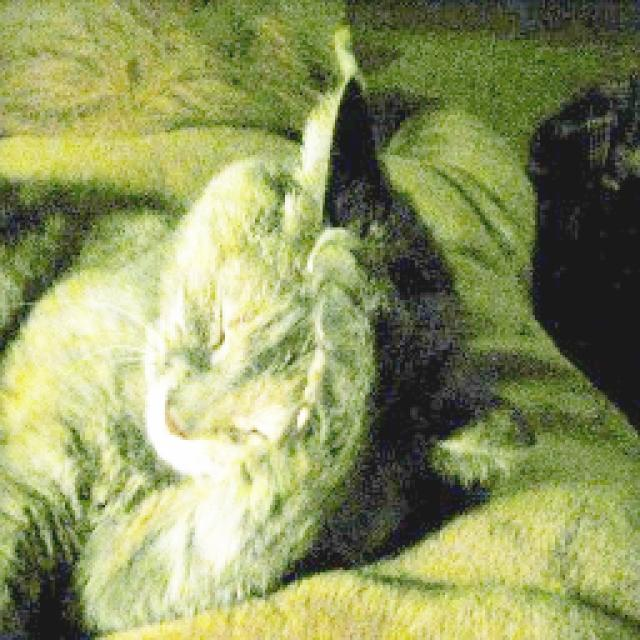cat: (0, 72, 391, 622)
